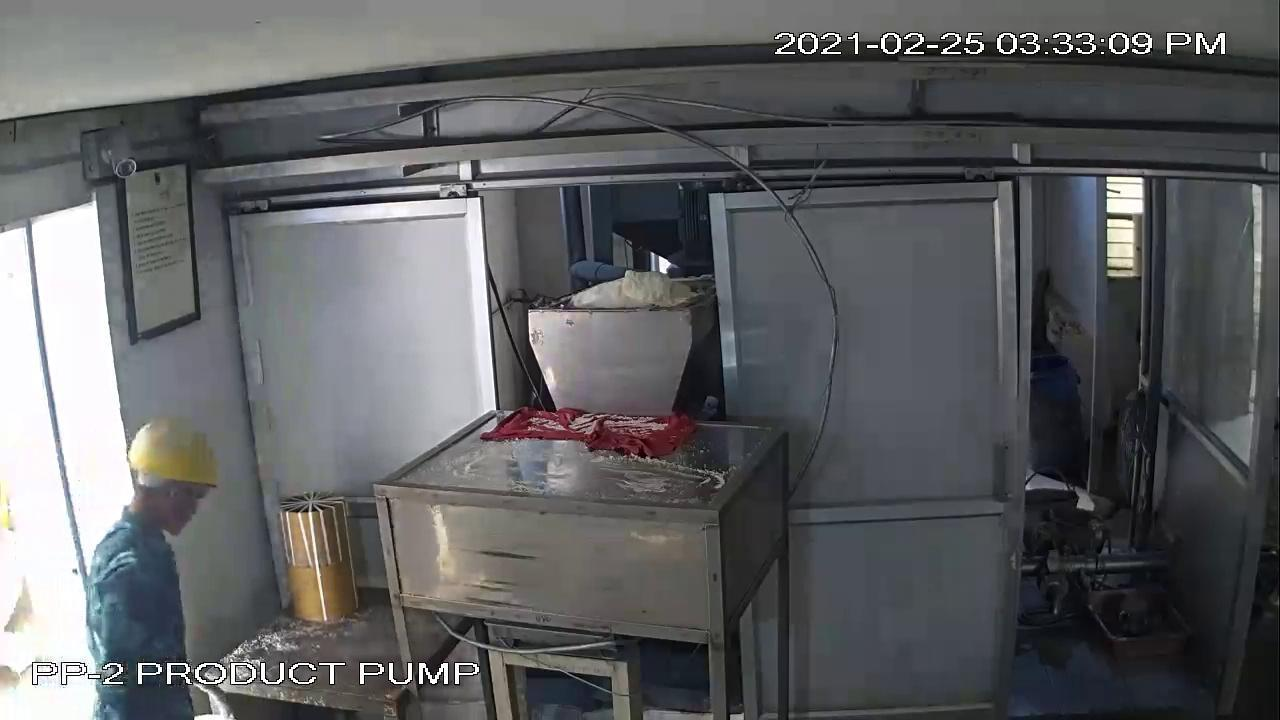helmet: (113, 410, 238, 492)
